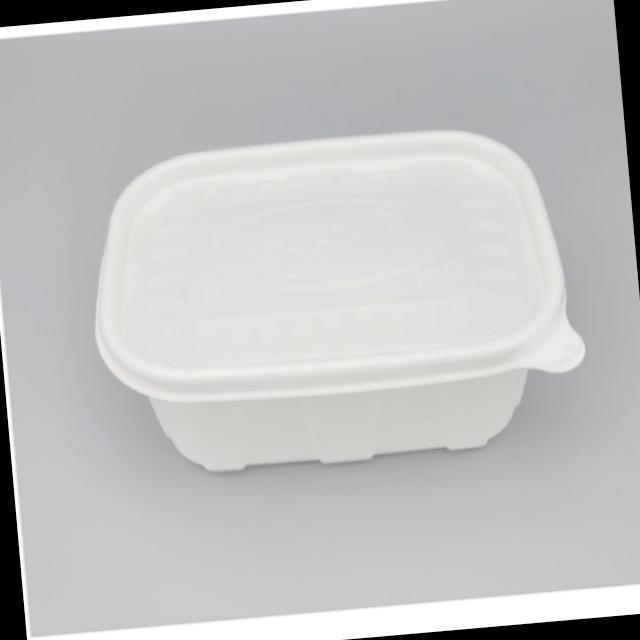disposable: (94, 127, 592, 498)
